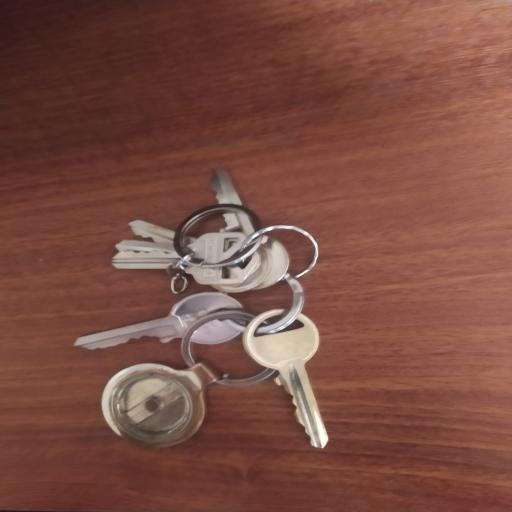Llaves: (66, 158, 343, 462)
